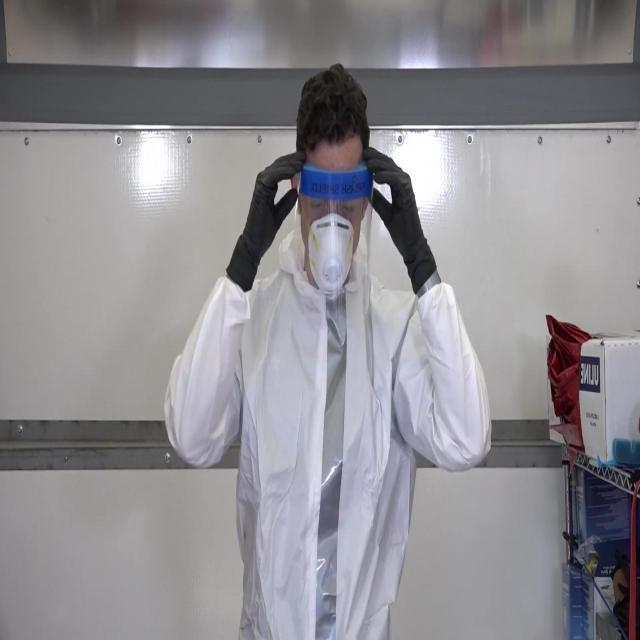gloves: (226, 149, 306, 293), (364, 146, 437, 294)
